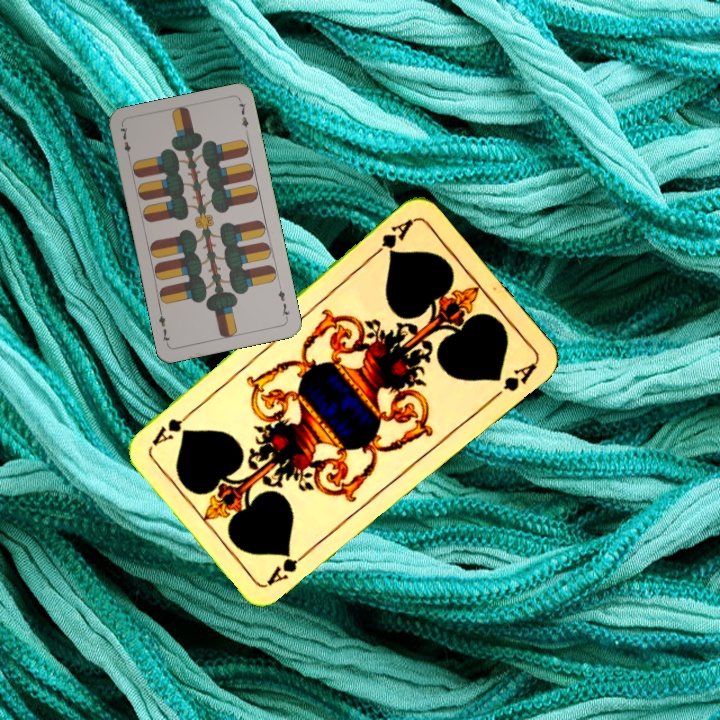E7: (274, 282, 292, 322), (116, 123, 133, 162)
GA: (367, 214, 416, 260), (263, 545, 314, 588)
